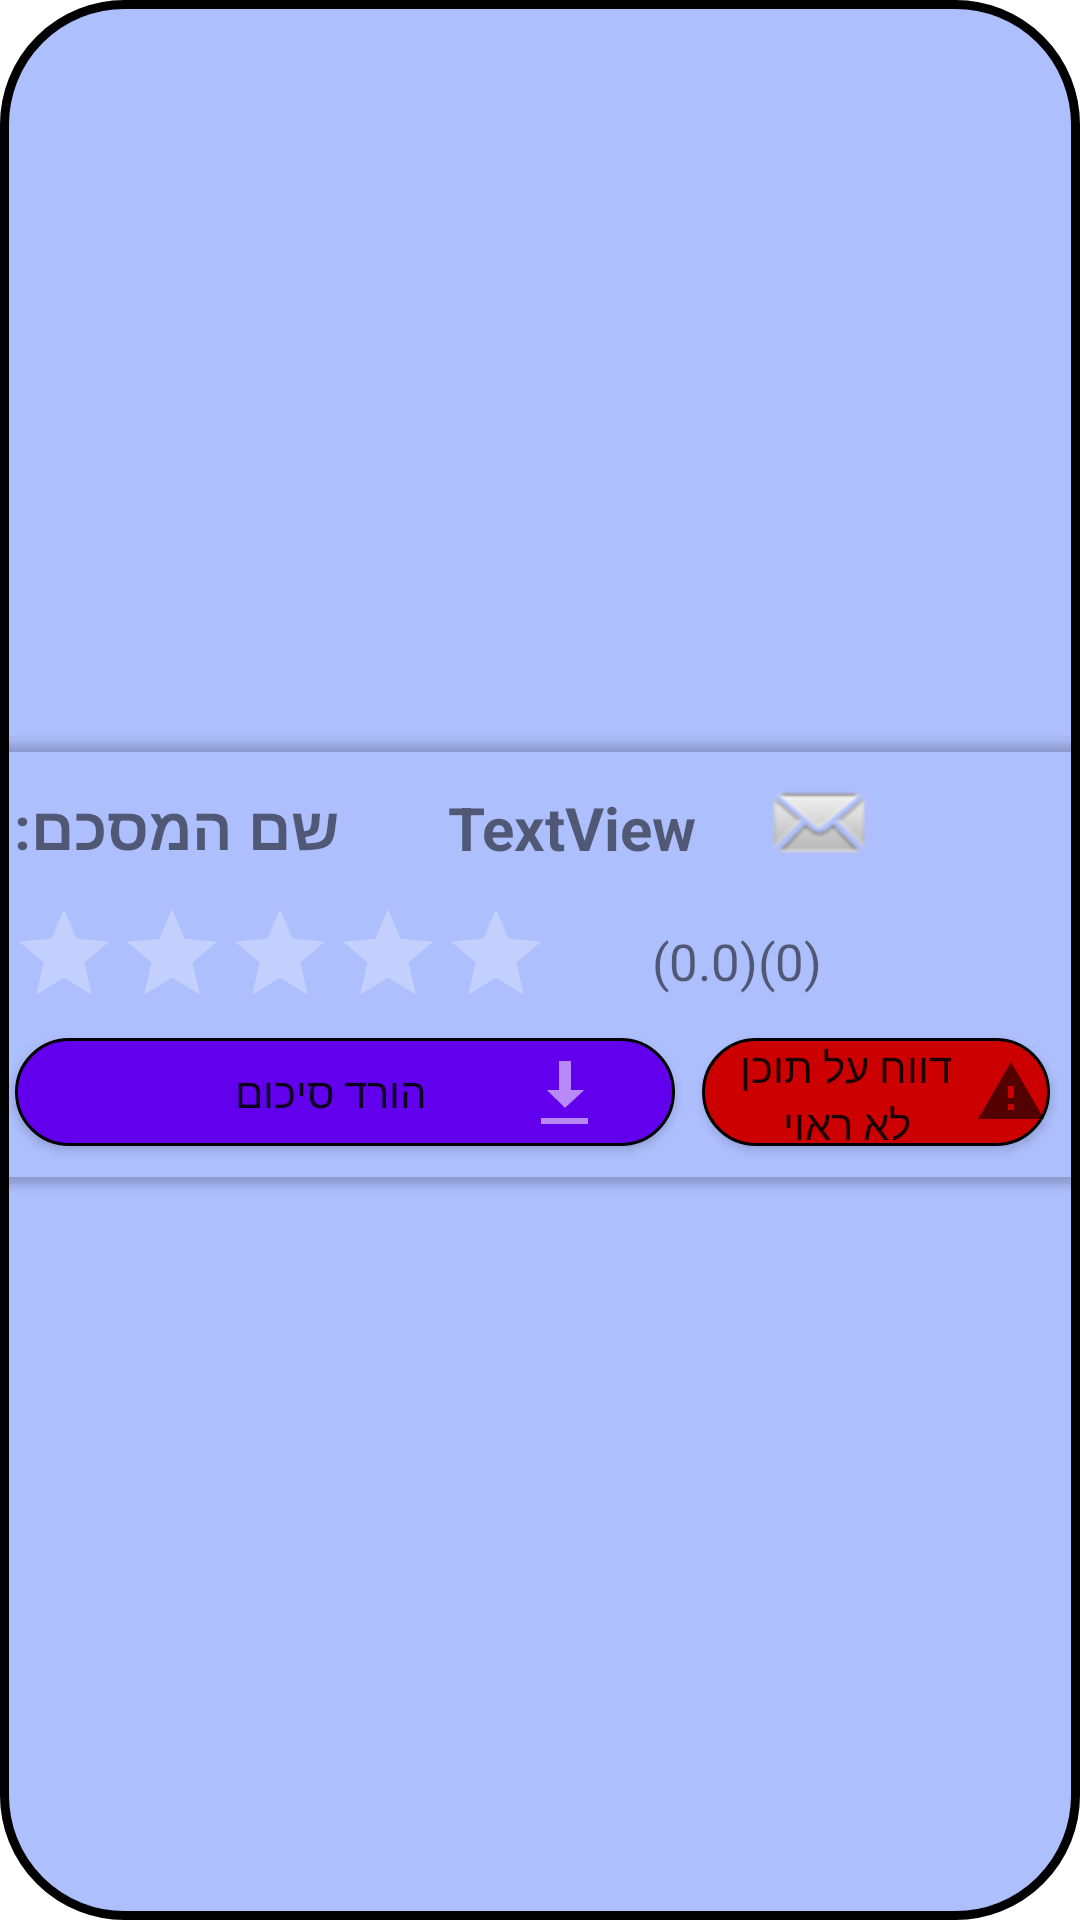

Named icons in this screenshot (1080x1920) and their bounding boxes, {"x1": x1, "y1": y1, "x2": x2, "y2": y2}:
sym action email: {"x1": 774, "y1": 792, "x2": 865, "y2": 852}
